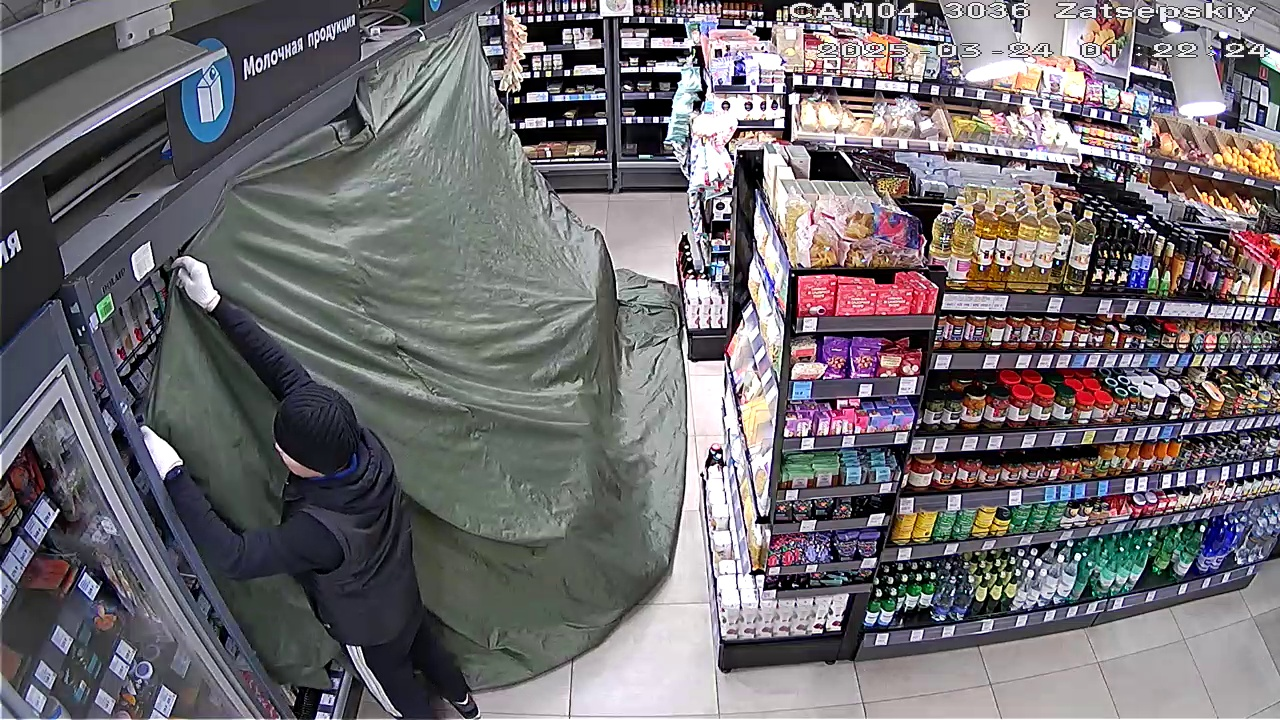Human: (107, 250, 474, 719)
dome: (138, 39, 688, 673)
